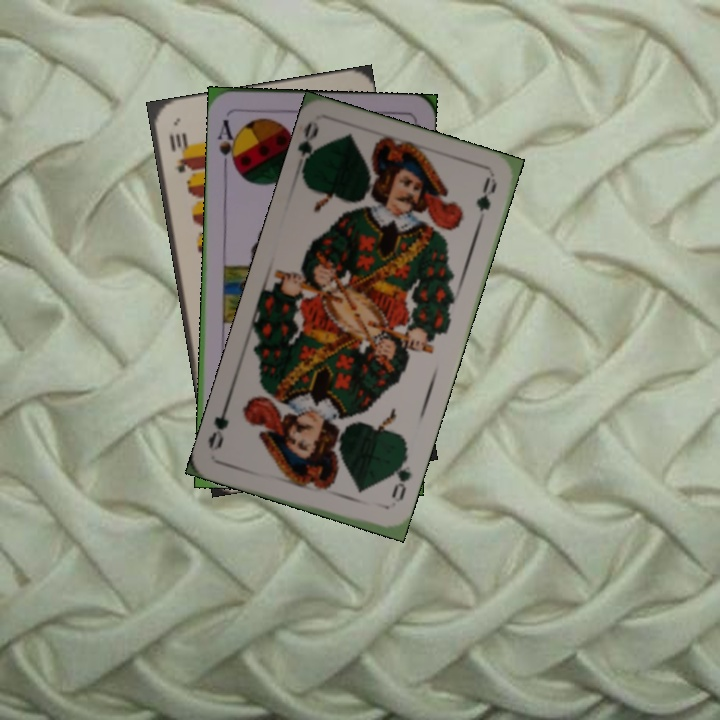E10: (165, 129, 191, 176)
GO: (295, 118, 324, 178), (386, 453, 414, 505)
SA: (213, 115, 241, 172)
